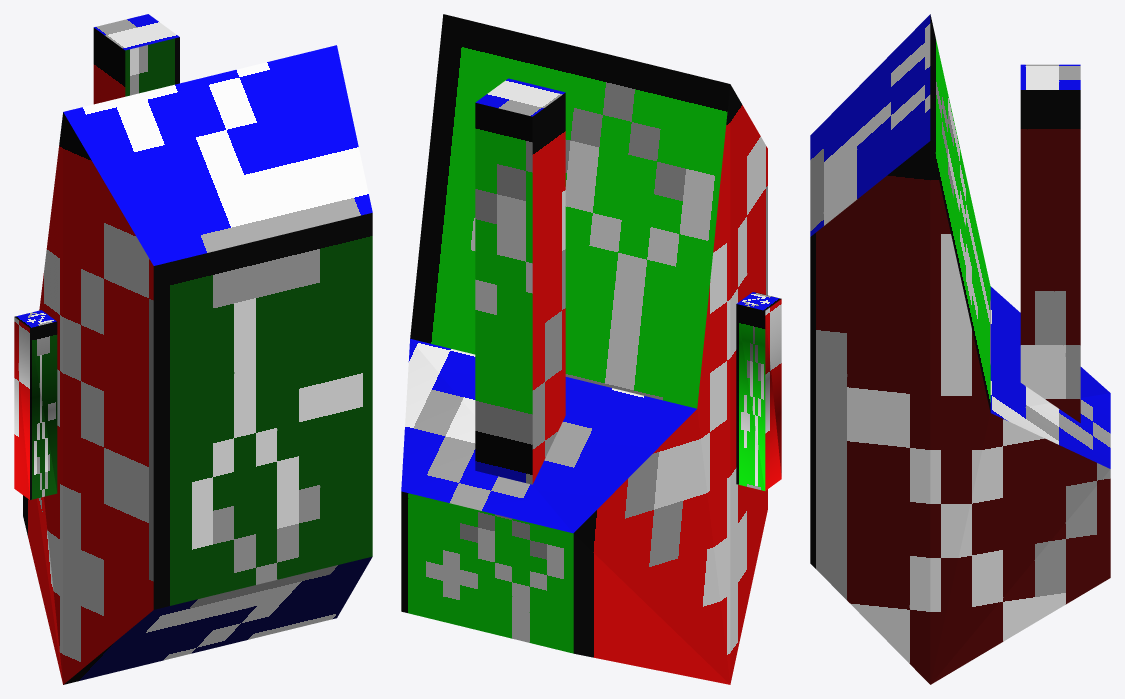
The model's file is heavytank4+z+y.obj.
3 views of the same model, side by side, from view 1: azimuth 30°, elevation 25°; view 2: azimuth 150°, elevation 25°; view 3: azimuth 270°, elevation 25° (orthographic). The views are drawn at different scales.
Visible parts, largest first — view 1: Cube; view 2: Cube; view 3: Cube.
Part boxes in pixels (bbox=[...]): Cube: bbox=[14, 14, 372, 684]; Cube: bbox=[401, 14, 781, 684]; Cube: bbox=[810, 14, 1110, 684].
Bounding box in the file's own units: 1.15 × 2 × 1.
Materials: 1 (1 with a texture image).
